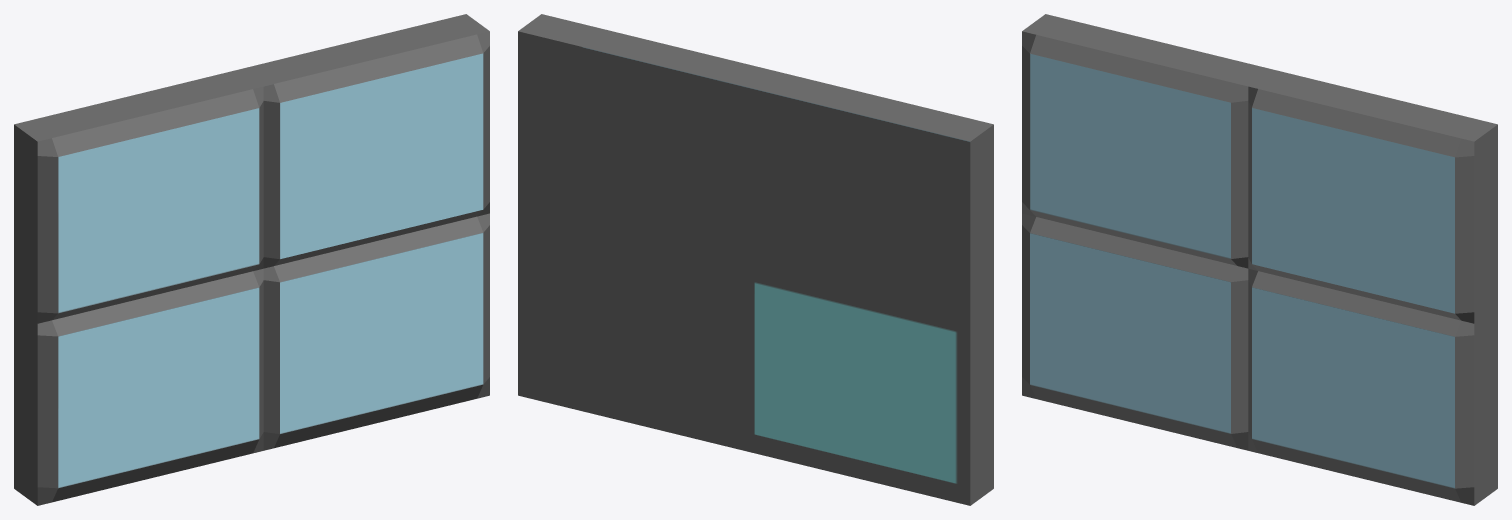
Rendered from Window.fbx.
3 renders of one model, left to right at view 1: azimuth 30°, elevation 25°; view 2: azimuth 150°, elevation 25°; view 3: azimuth 330°, elevation 25°, orthographic.
Parts seen in each view (by area): view 1: Cube; view 2: Cube; view 3: Cube.
Boxes of the visible parts, x1,y1,x2,y2 form: Cube: [14, 14, 489, 505]; Cube: [518, 14, 993, 505]; Cube: [1022, 14, 1497, 505].
Size of the model in its own units: 2.87 by 2.21 by 0.3293.
